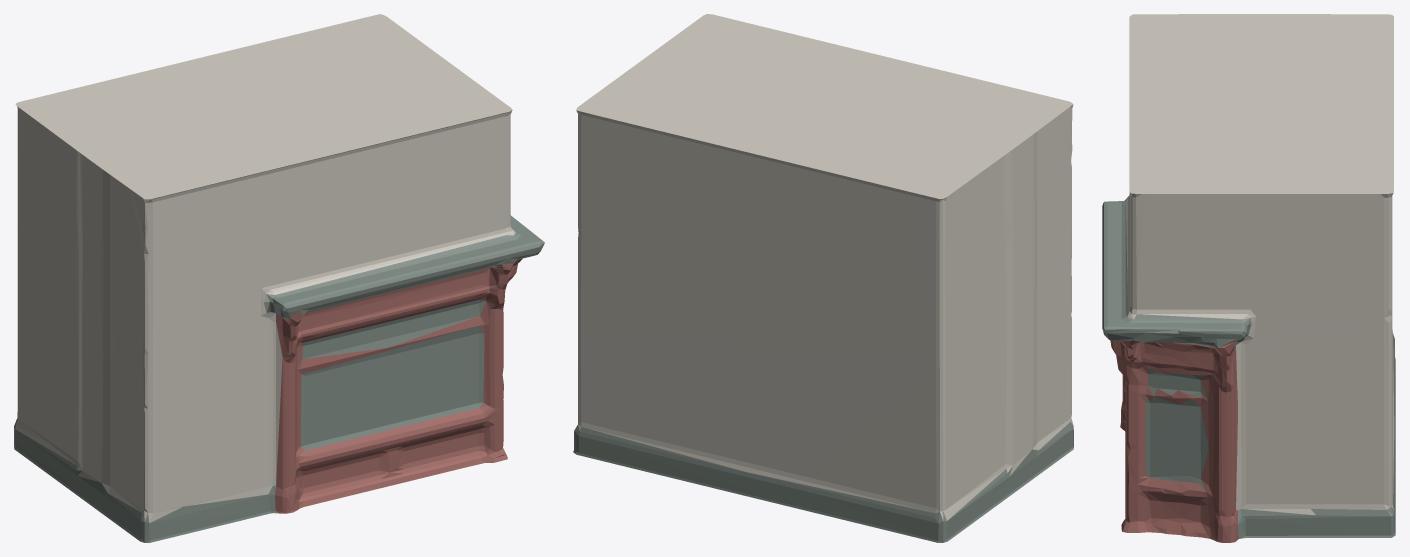
Rendered from etape-1.glb.
3 views of the same model, side by side, from view 1: azimuth 30°, elevation 25°; view 2: azimuth 150°, elevation 25°; view 3: azimuth 270°, elevation 25° (orthographic).
Parts seen in each view (by area): view 1: geometry_0; view 2: geometry_0; view 3: geometry_0.
Part boxes in pixels (x1=…): geometry_0: x1=14, y1=14, x2=544, y2=542; geometry_0: x1=573, y1=14, x2=1073, y2=542; geometry_0: x1=1102, y1=14, x2=1395, y2=542.
Size of the model in its own units: 0.764 by 0.6368 by 0.4933.
